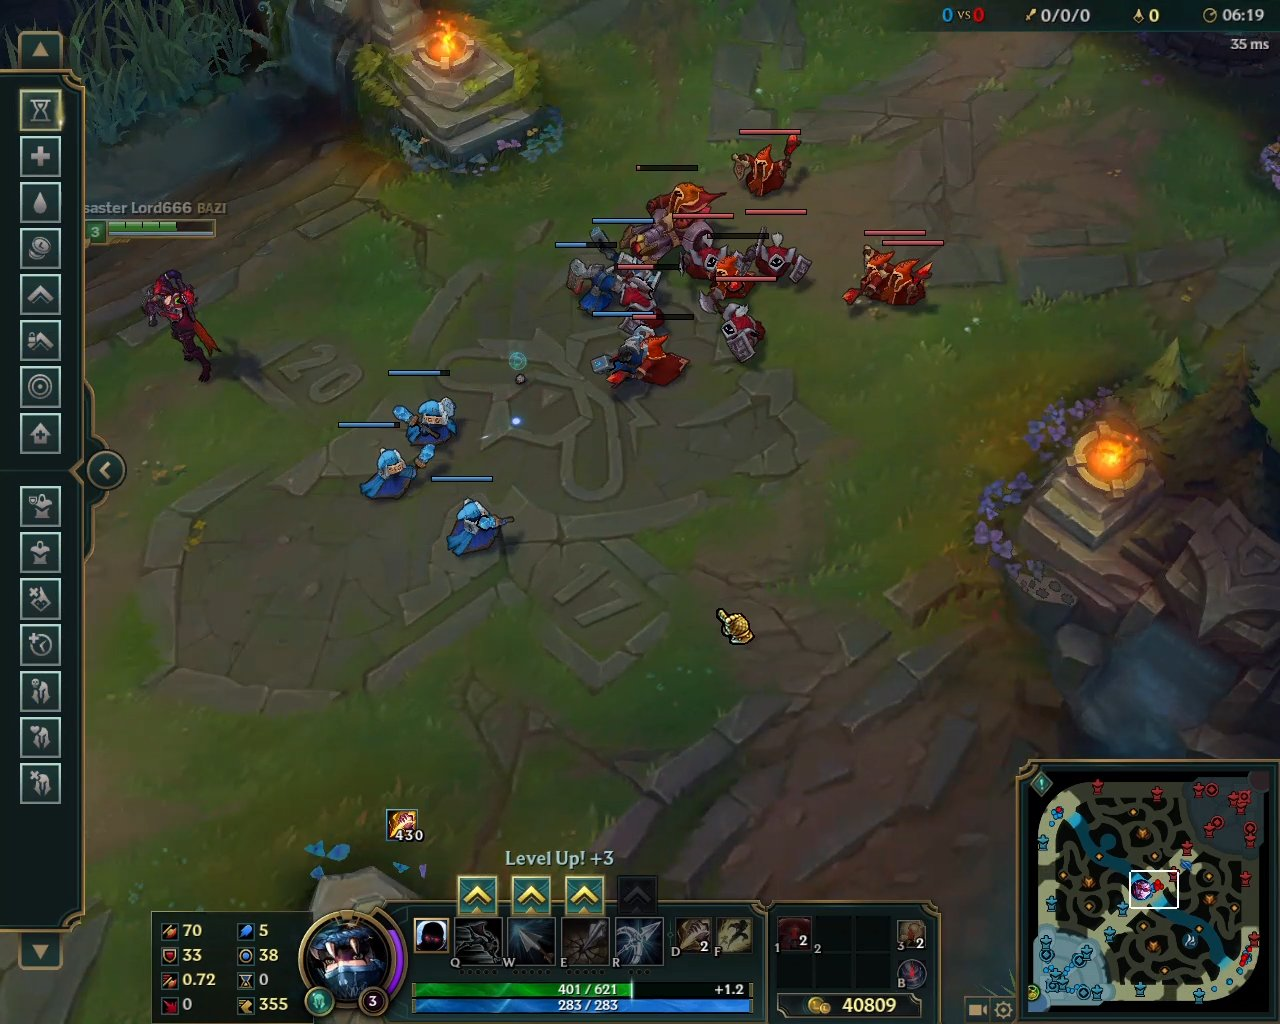EnemyMinion: (698, 275, 777, 372), (621, 312, 695, 396), (860, 240, 946, 311), (743, 210, 818, 288), (730, 127, 800, 200)
Vayne: (130, 266, 235, 391)
